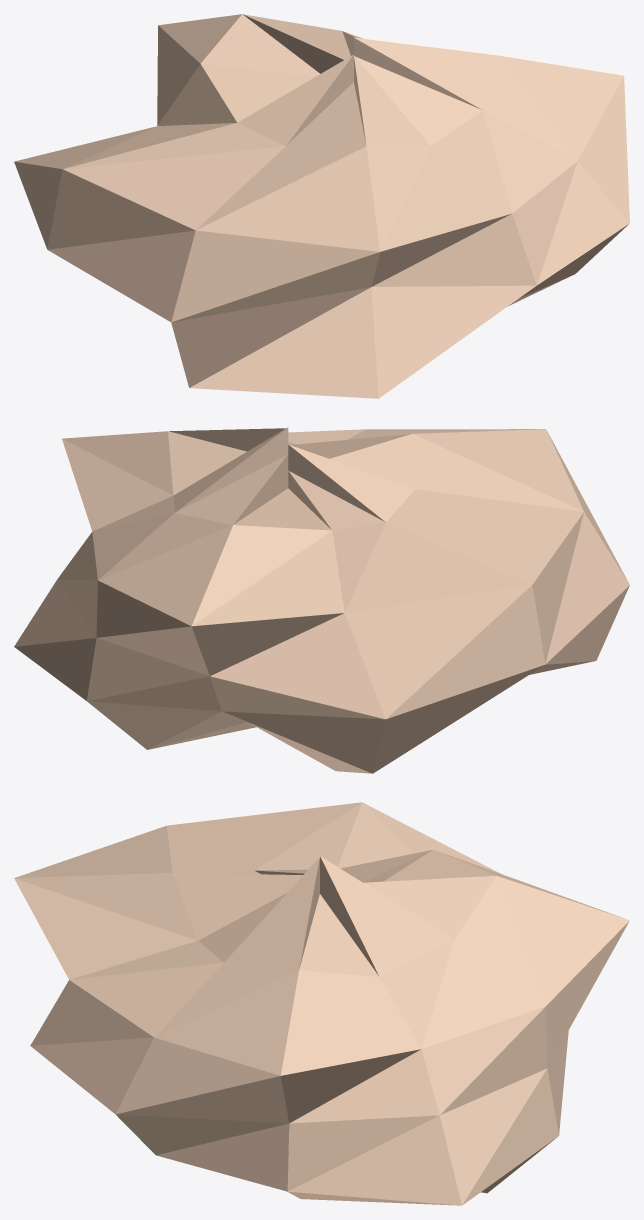
File: rock_096.obj
3 views of the same model, one above another, from view 1: azimuth 30°, elevation 25°; view 2: azimuth 150°, elevation 25°; view 3: azimuth 270°, elevation 25° (orthographic). The views are drawn at different scales.
Bounding box in the file's own units: 1.08 × 0.6148 × 1.02.
